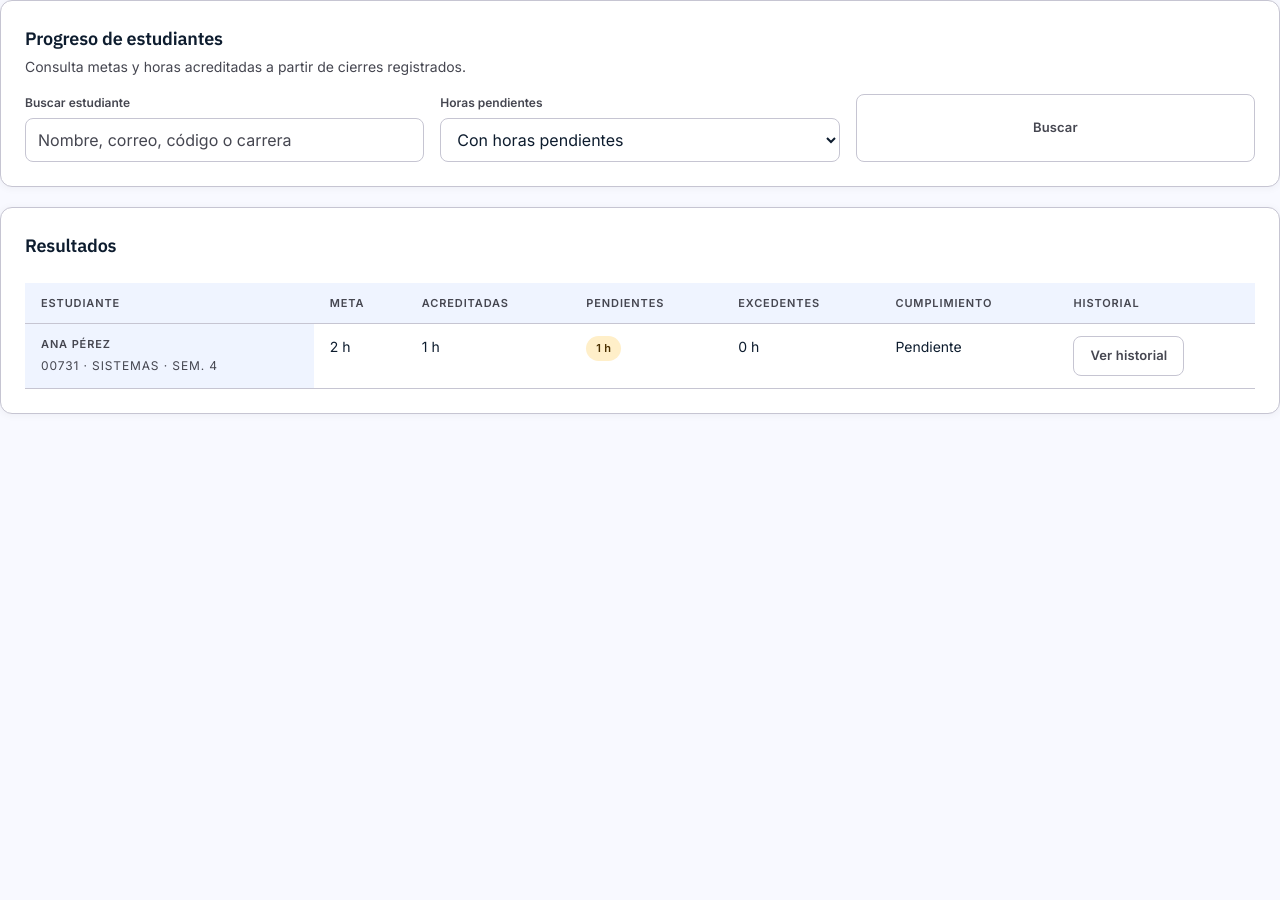
Test: cumplimiento y estados administrativos › pagina el historial sin mostrar datos de evaluación
Expected: the text "Ana Pérez" is shown, [41,337,111,351]
Click the button "Ver historial" at (1129, 356), box [1073,336,1184,376]
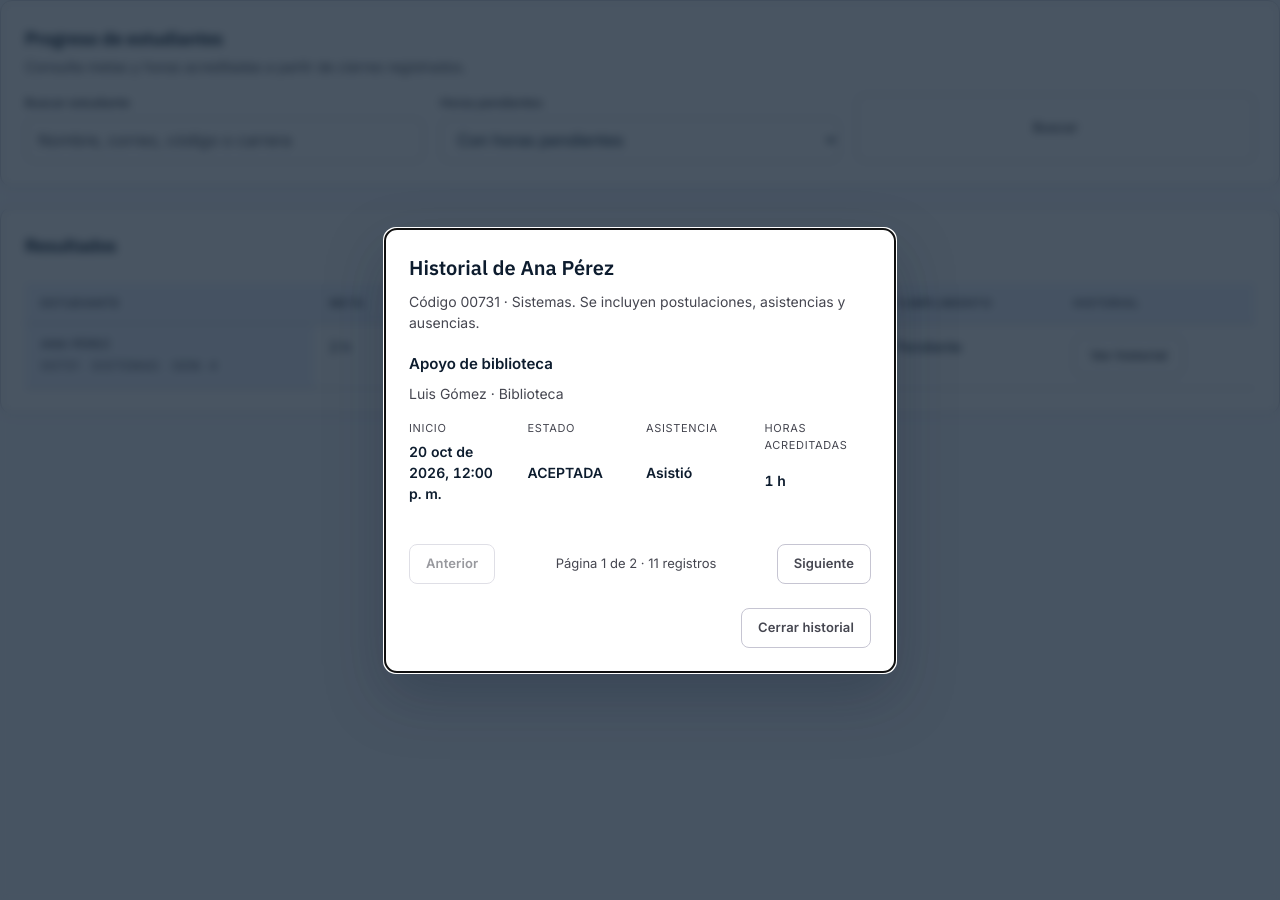
Now the heading "Apoyo de biblioteca" is shown, box [409,354,553,372]
Click the button "Siguiente" at (824, 564), box [777,544,871,584]
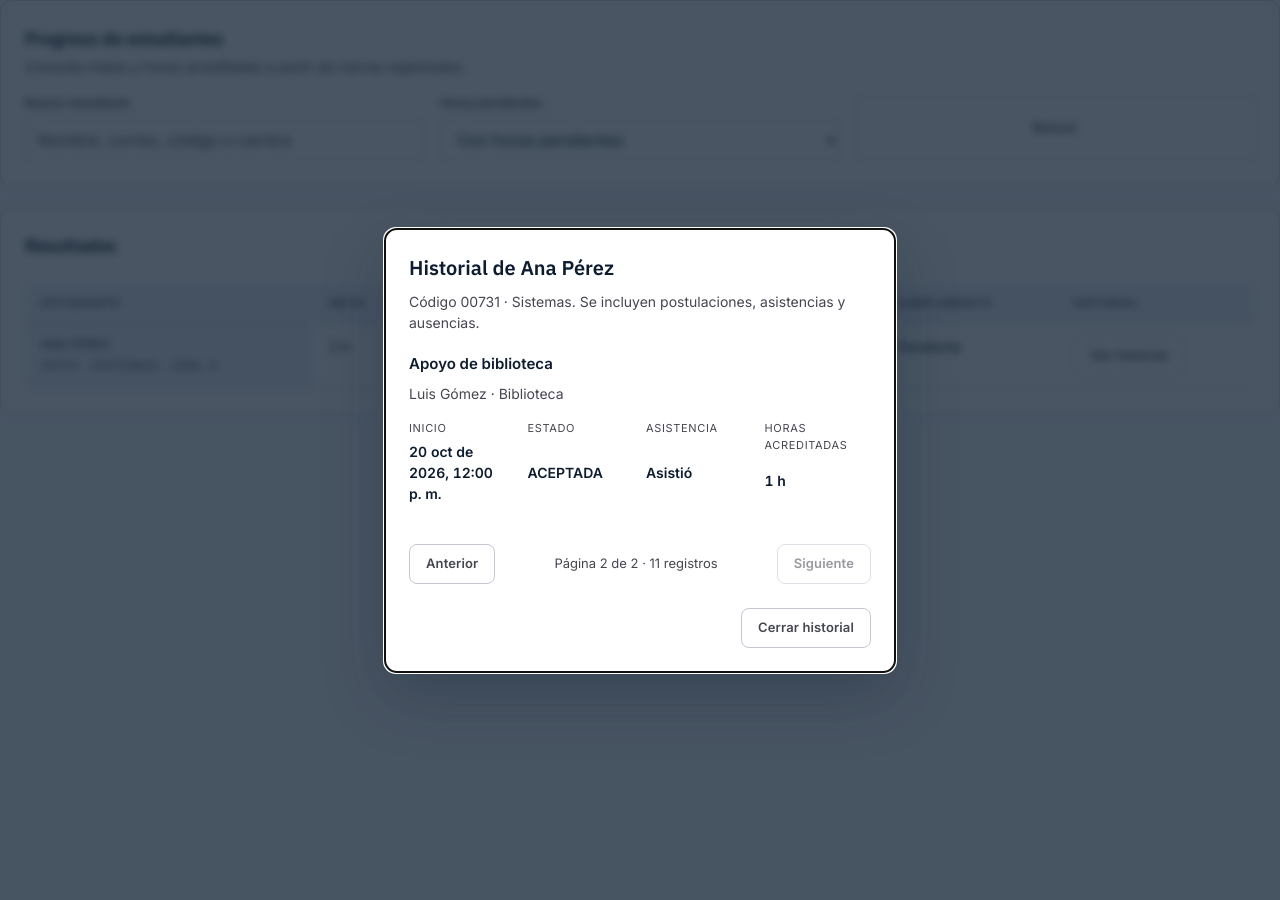
Now the text "Página 2 de 2 · 11 registros" is shown, box [554,554,718,573]
